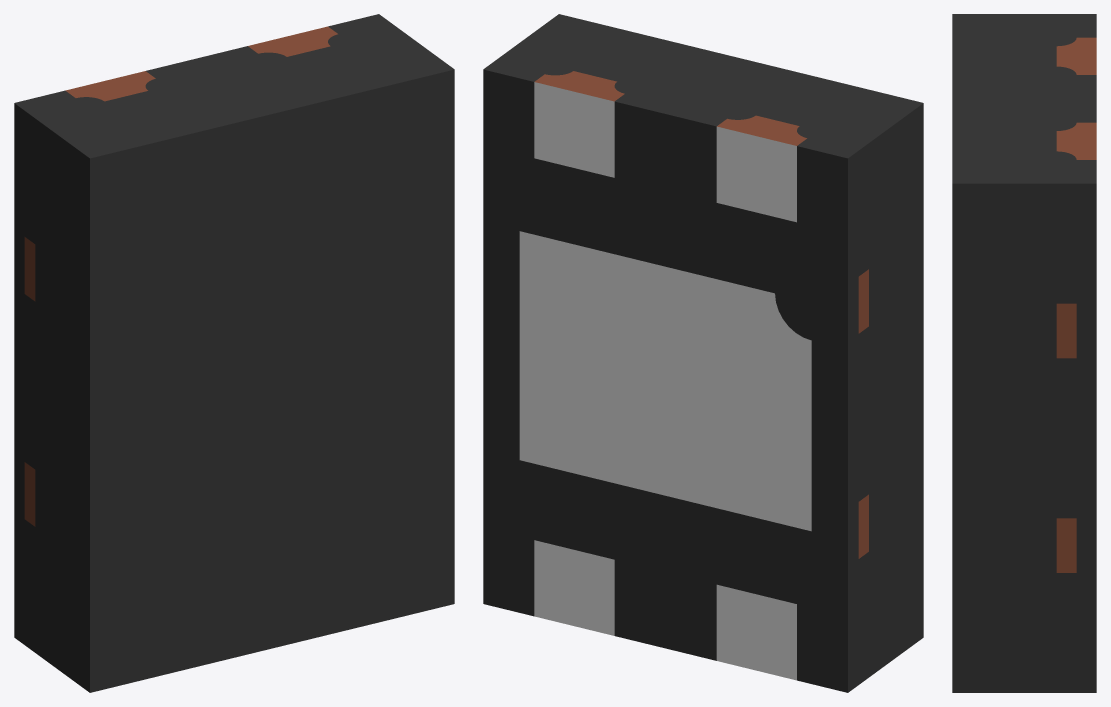
The model's file is dfn.glb.
The picture shows the model from 3 angles, left to right: view 1: azimuth 30°, elevation 25°; view 2: azimuth 150°, elevation 25°; view 3: azimuth 270°, elevation 25°; orthographic projection. The views are drawn at different scales.
Parts seen in each view (by area): view 1: Compound, LF; view 2: Compound, LF; view 3: Compound, LF.
Part boxes in pixels (x1=…): Compound: x1=14, y1=14, x2=454, y2=692; LF: x1=24, y1=26, x2=337, y2=526; Compound: x1=483, y1=14, x2=923, y2=692; LF: x1=519, y1=71, x2=868, y2=680; Compound: x1=952, y1=14, x2=1096, y2=692; LF: x1=1056, y1=37, x2=1096, y2=572.
Bounding box in the file's own units: 0.001 × 0.0014 × 0.00036.
